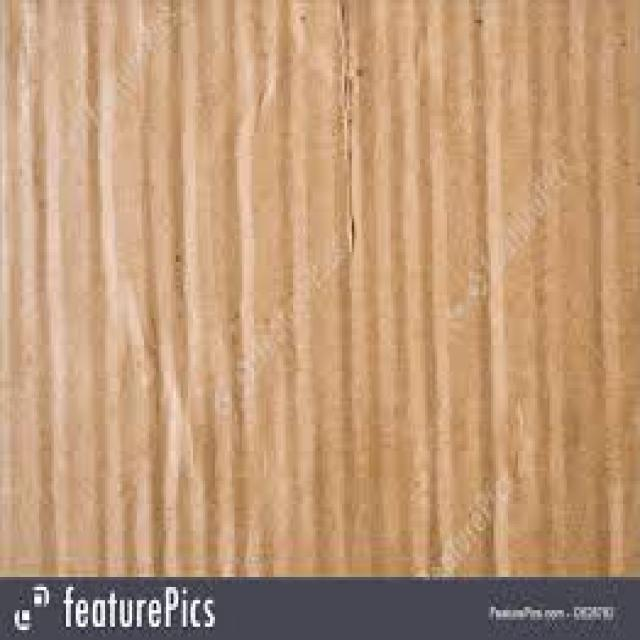cardboard: (0, 0, 638, 574)
